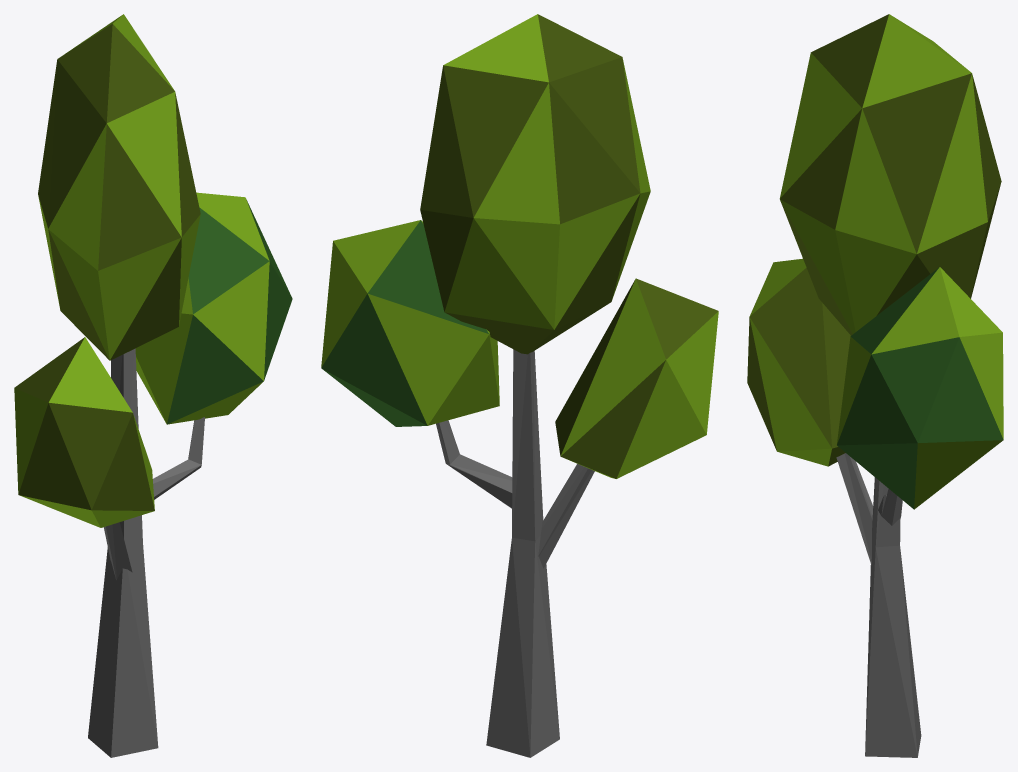
File: Tree1_M1_8_big.fbx
The picture shows the model from 3 angles, left to right: view 1: azimuth 30°, elevation 25°; view 2: azimuth 150°, elevation 25°; view 3: azimuth 270°, elevation 25°; orthographic projection.
Visible parts, largest first — view 1: Tree1_M1_8_big; view 2: Tree1_M1_8_big; view 3: Tree1_M1_8_big.
Boxes of the visible parts, bbox=[...] form: Tree1_M1_8_big: bbox=[14, 14, 292, 757]; Tree1_M1_8_big: bbox=[321, 14, 718, 757]; Tree1_M1_8_big: bbox=[747, 14, 1003, 757].
Size of the model in its own units: 283 by 602 by 193.
